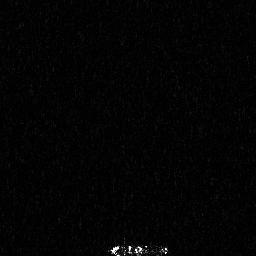ship: (105, 239, 169, 256)
